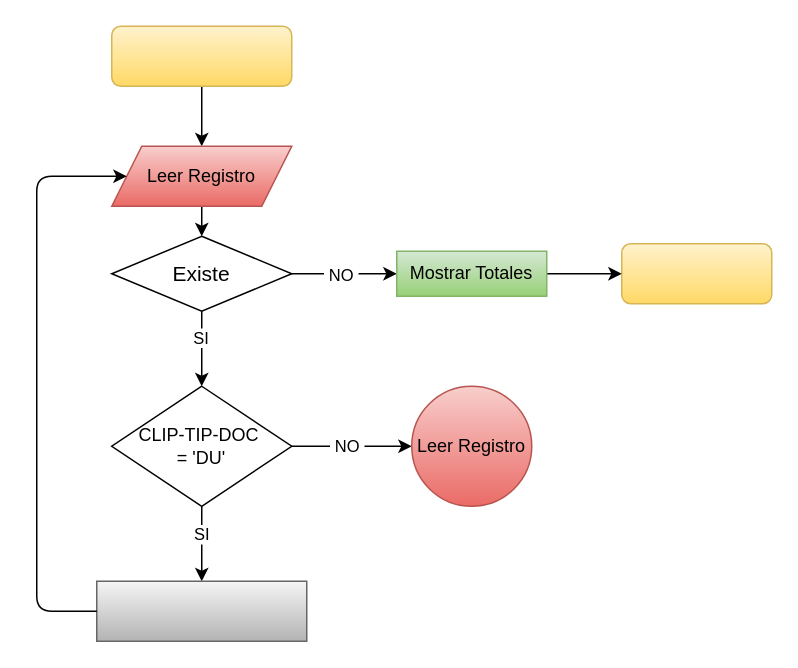
Image size: 798x668. Some labels were removed from this diagram. Each missing label, with the centre of its shape:
"1000-INICIO" goes at point (201, 55).
"9999-FINAL" goes at point (696, 273).
"ADD saldo a Totalizador ADD 1 a Cantidad" goes at point (201, 610).
